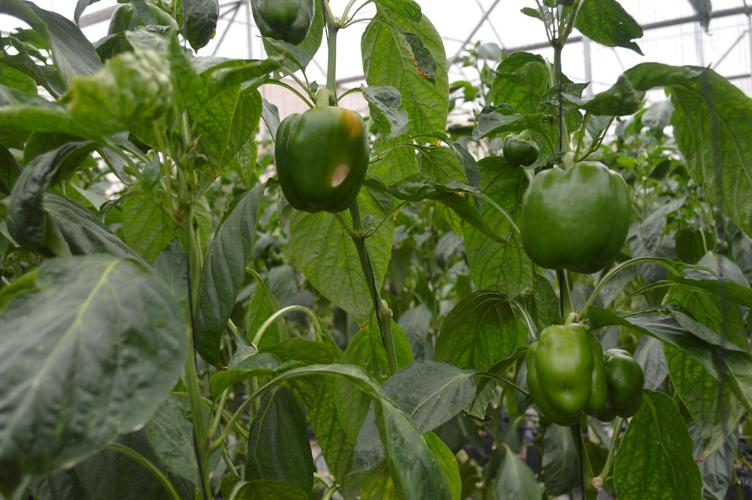BellPepper: (511, 164, 630, 278), (274, 108, 371, 217), (526, 320, 602, 421), (590, 344, 646, 419), (256, 2, 314, 44)
